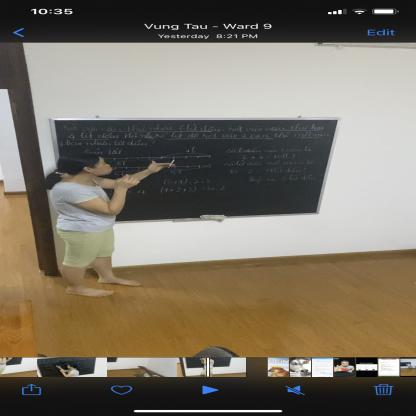cigarette: (170, 158, 176, 164)
person: (48, 153, 164, 291)
